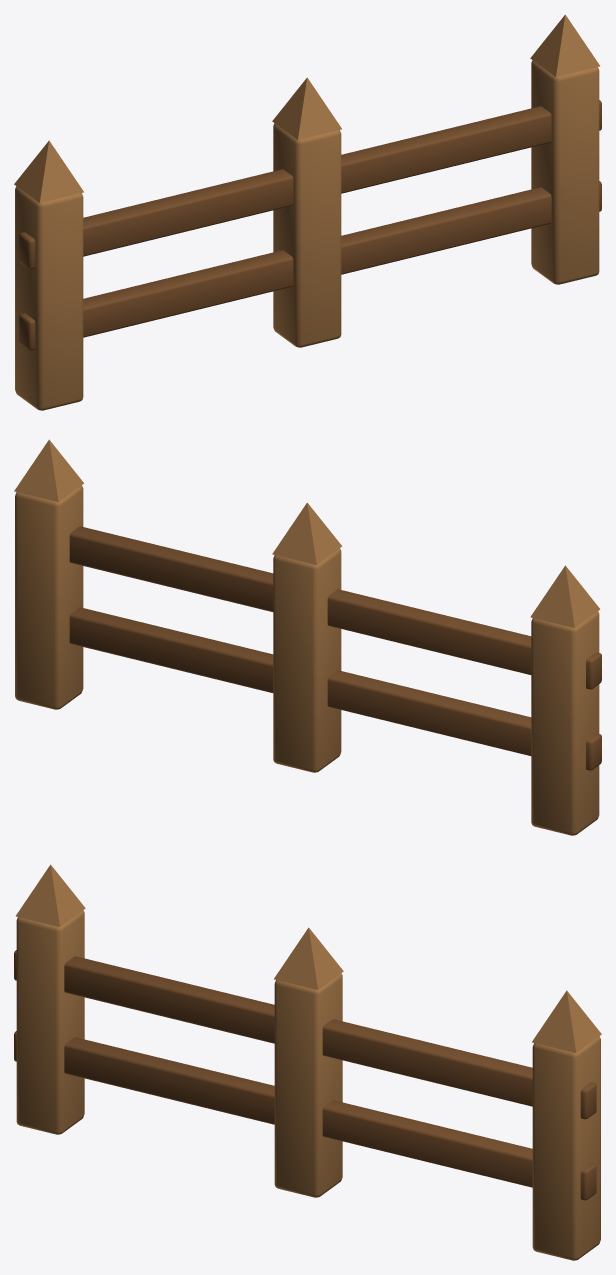
The model's file is prop_fence.glb.
3 renders of one model, top to bottom at view 1: azimuth 30°, elevation 25°; view 2: azimuth 150°, elevation 25°; view 3: azimuth 330°, elevation 25°, orthographic.
Parts seen in each view (by area): view 1: SK_prop_fence; view 2: SK_prop_fence; view 3: SK_prop_fence.
Part boxes in pixels (x1,y1,x2,y2): SK_prop_fence: [14, 14, 601, 410]; SK_prop_fence: [14, 439, 601, 835]; SK_prop_fence: [14, 864, 601, 1260].
Bounding box in the file's own units: 2 × 0.86 × 0.16.
